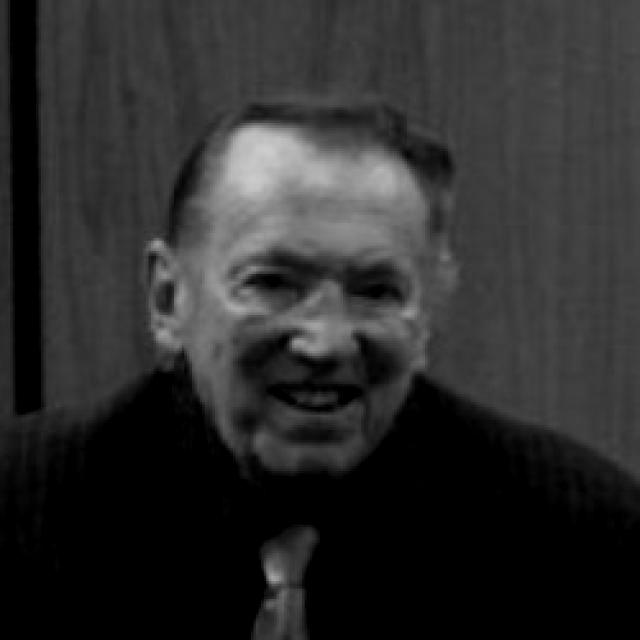real: (146, 127, 480, 499), (220, 250, 423, 323)
